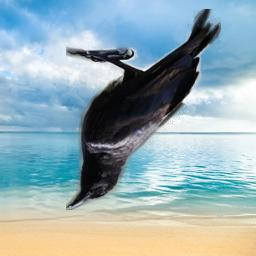Crow: (66, 9, 221, 210)
